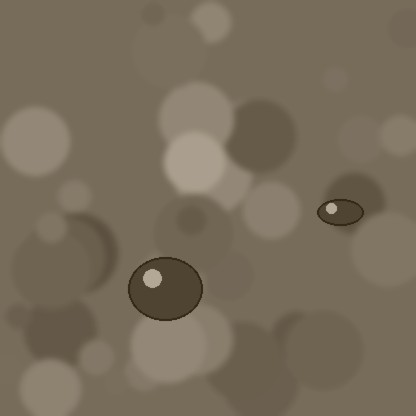gota: (128, 259, 202, 325), (317, 200, 363, 228)
